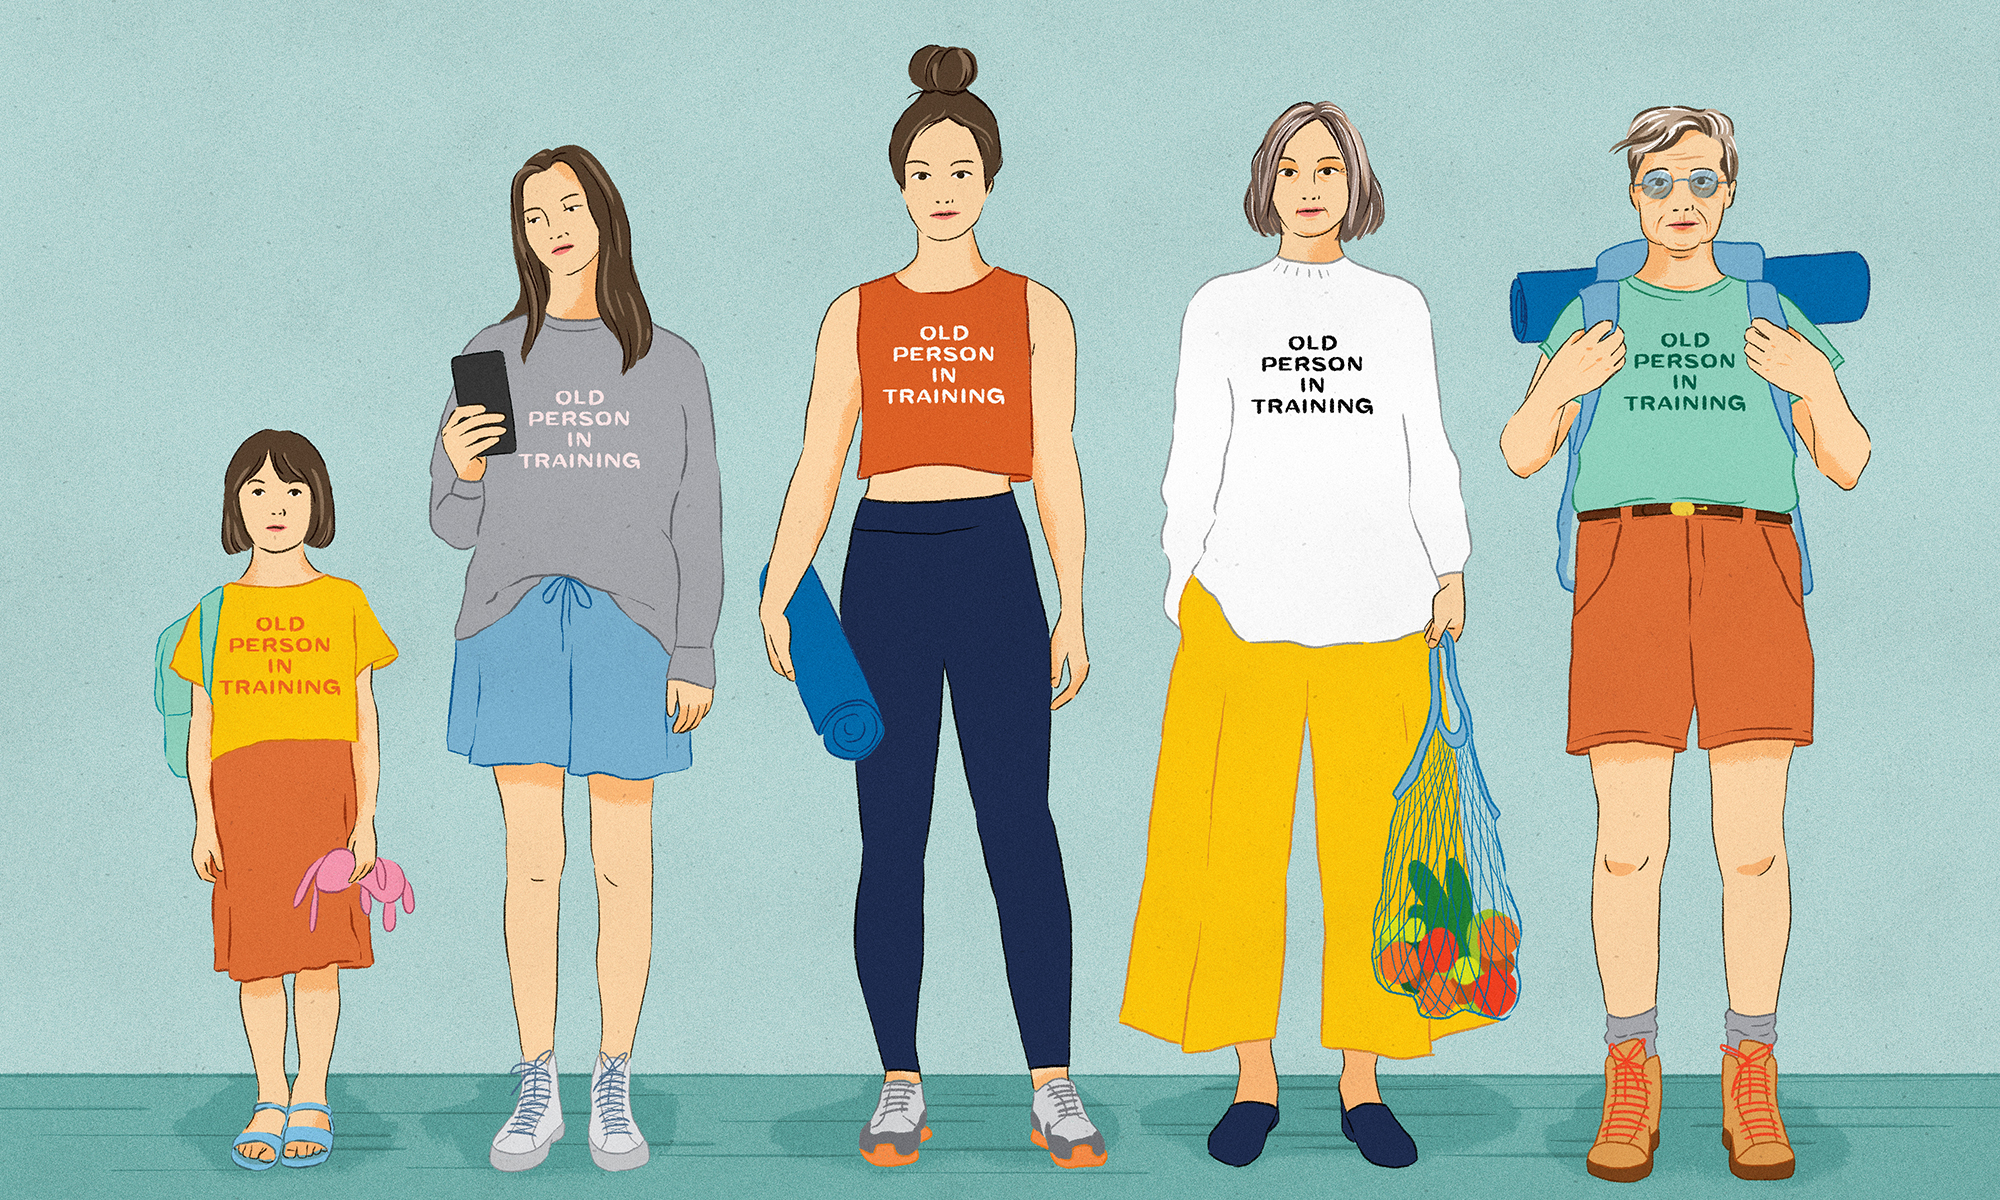person: (753, 31, 1128, 1187)
